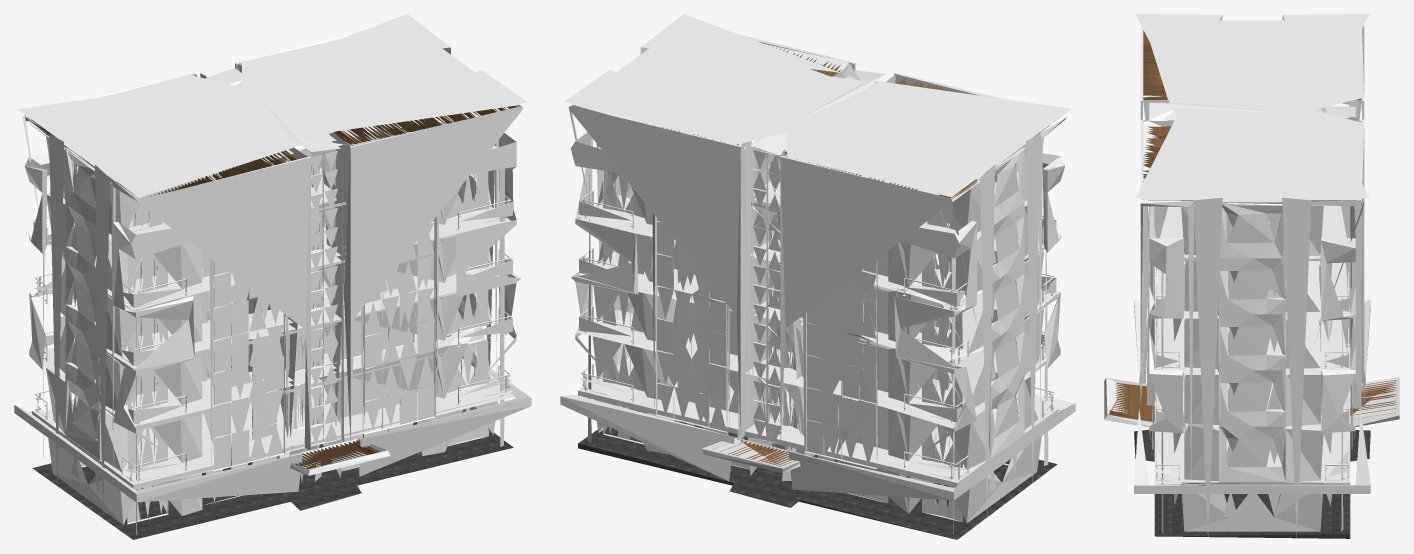
The model's file is hotel.glb.
3 renders of one model, left to right at view 1: azimuth 30°, elevation 25°; view 2: azimuth 150°, elevation 25°; view 3: azimuth 270°, elevation 25°, orthographic. The views are drawn at different scales.
Visible parts, largest first — view 1: Hotel.024, Hotel.012, Hotel.013, Hotel.018, Hotel.004, Hotel.016, Hotel.010, Hotel.026, Hotel.008, Hotel.014, Hotel.009, Hotel.002 (+12 smaller); view 2: Hotel.024, Hotel.012, Hotel.013, Hotel.018, Hotel.004, Hotel.010, Hotel.016, Hotel.026, Hotel.008, Hotel.014, Hotel.005, Hotel.002 (+12 smaller); view 3: Hotel.012, Hotel.024, Hotel.026, Hotel.018, Hotel.009, Hotel.013, Hotel.010, Hotel.008, Hotel.006, Hotel.019, Hotel.020, Hotel.021 (+8 smaller).
Boxes of the visible parts, x1,y1,x2,y2 form: Hotel.024: (26, 38, 518, 486); Hotel.012: (17, 14, 527, 520); Hotel.013: (22, 34, 523, 467); Hotel.018: (46, 119, 492, 471); Hotel.004: (147, 150, 434, 469); Hotel.016: (60, 128, 487, 522); Hotel.010: (14, 339, 531, 502); Hotel.026: (65, 118, 477, 460); Hotel.008: (32, 412, 513, 539); Hotel.014: (60, 139, 488, 524); Hotel.009: (46, 354, 497, 525); Hotel.002: (213, 151, 435, 471); Hotel.024: (572, 48, 1057, 482); Hotel.012: (564, 14, 1072, 517); Hotel.013: (568, 34, 1067, 444); Hotel.018: (592, 138, 1043, 469); Hotel.004: (657, 82, 952, 465); Hotel.010: (560, 370, 1075, 500); Hotel.016: (604, 154, 1027, 517); Hotel.026: (614, 145, 1024, 458); Hotel.008: (578, 420, 1057, 539); Hotel.014: (603, 152, 1030, 522); Hotel.005: (652, 213, 864, 450); Hotel.002: (656, 80, 881, 469); Hotel.012: (1135, 14, 1369, 538); Hotel.024: (1143, 20, 1361, 485); Hotel.026: (1219, 200, 1285, 482); Hotel.018: (1171, 205, 1332, 482); Hotel.009: (1172, 425, 1336, 531); Hotel.013: (1140, 25, 1364, 477); Hotel.010: (1134, 299, 1370, 493); Hotel.008: (1154, 494, 1350, 538); Hotel.006: (1143, 99, 1361, 408); Hotel.019: (1104, 376, 1399, 427); Hotel.020: (1109, 380, 1395, 422); Hotel.021: (1143, 30, 1362, 205).
Bounding box in the file's own units: 24.91 × 21.4 × 16.66.
6 materials, 2 textured.
